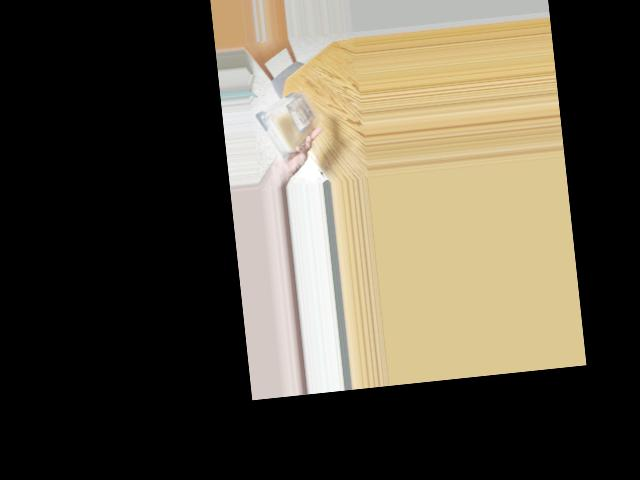cheese: (261, 85, 321, 158)
